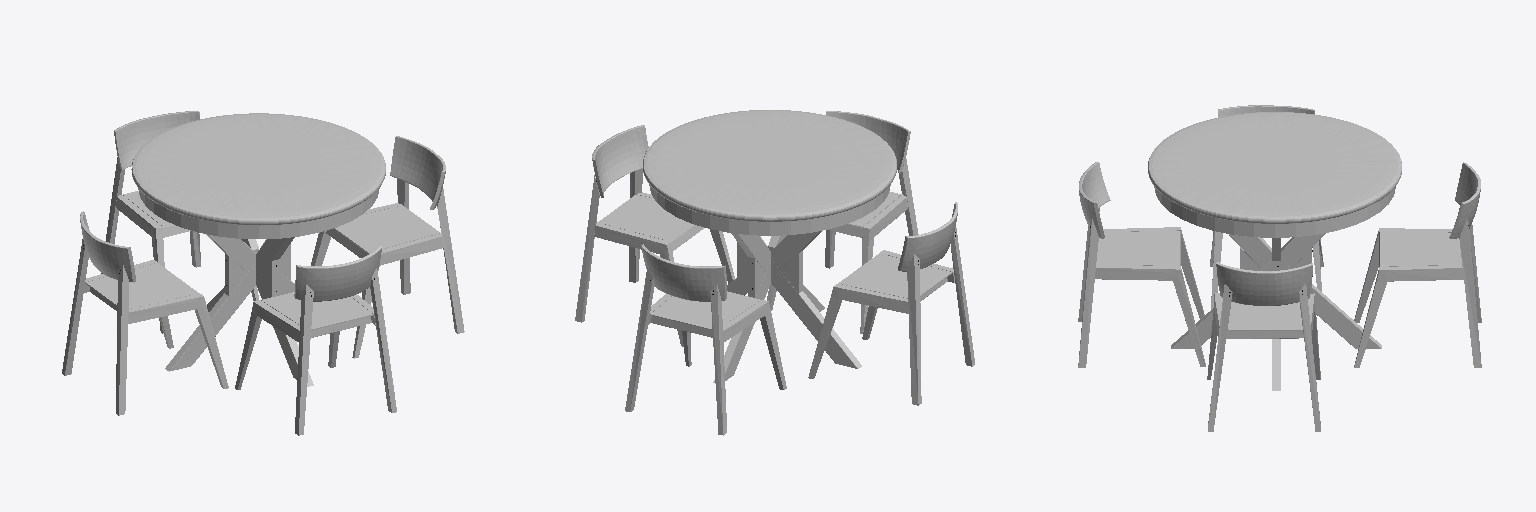
The picture shows the model from 3 angles: view 1: azimuth 30°, elevation 25°; view 2: azimuth 150°, elevation 25°; view 3: azimuth 270°, elevation 25°; orthographic projection.
Parts seen in each view (by area): view 1: Cylinder, Cylinder.001, Cube.021_Cube.006, Sphere.003, Cube.045_Cube.029, Sphere.005, Cube.006_Cube.016, Cube.041_Cube.022, Cube.032_Cube.046, Cube.029_Cube.043, Sphere.001, Cube.039_Cube.009 (+15 smaller); view 2: Cylinder, Cylinder.001, Sphere.001, Sphere.005, Cube.045_Cube.029, Cube.021_Cube.006, Cube.042_Cube.023, Cube.006_Cube.016, Cube.011_Cube.000, Sphere.006, Cube.043_Cube.025, Cube.020_Cube.004 (+15 smaller); view 3: Cylinder, Cylinder.001, Sphere.005, Cube.032_Cube.046, Cube.011_Cube.000, Cube.028_Cube.042, Cube.019_Cube.003, Cube.021_Cube.006, Cube.009_Cube.011, Sphere.003, Cube.016_Cube.002, Sphere.001 (+11 smaller).
Boxes of the visible parts, x1,y1,x2,y2 form: Cylinder: [131, 113, 385, 225]; Cylinder.001: [138, 188, 379, 238]; Cube.021_Cube.006: [333, 205, 439, 252]; Sphere.003: [294, 246, 381, 301]; Cube.045_Cube.029: [86, 263, 197, 308]; Sphere.005: [390, 136, 445, 209]; Cube.006_Cube.016: [165, 263, 255, 371]; Cube.041_Cube.022: [128, 293, 228, 388]; Cube.032_Cube.046: [261, 292, 373, 330]; Cube.029_Cube.043: [235, 300, 371, 389]; Sphere.001: [114, 111, 199, 170]; Cube.039_Cube.009: [326, 229, 443, 358]; Cylinder: [643, 110, 896, 221]; Cylinder.001: [649, 184, 890, 235]; Sphere.001: [641, 244, 726, 301]; Sphere.005: [592, 125, 648, 197]; Cube.045_Cube.029: [838, 253, 952, 298]; Cube.021_Cube.006: [598, 195, 694, 242]; Cube.042_Cube.023: [808, 278, 947, 378]; Cube.006_Cube.016: [771, 260, 861, 368]; Cube.011_Cube.000: [650, 291, 759, 330]; Sphere.006: [898, 202, 957, 271]; Cube.043_Cube.025: [907, 254, 921, 405]; Cube.020_Cube.004: [723, 300, 786, 389]; Cylinder: [1148, 112, 1401, 223]; Cylinder.001: [1154, 186, 1395, 237]; Sphere.005: [1216, 262, 1312, 305]; Cube.032_Cube.046: [1096, 231, 1180, 265]; Cube.011_Cube.000: [1379, 232, 1461, 266]; Cube.028_Cube.042: [1095, 265, 1205, 366]; Cube.019_Cube.003: [1354, 265, 1463, 367]; Cube.021_Cube.006: [1228, 302, 1302, 330]; Cube.009_Cube.011: [1281, 260, 1381, 348]; Sphere.003: [1079, 162, 1110, 238]; Cube.016_Cube.002: [1459, 219, 1481, 367]; Sphere.001: [1449, 162, 1480, 238].
Size of the model in its own units: 67.59 by 34.58 by 68.48.
3 materials, 1 textured.